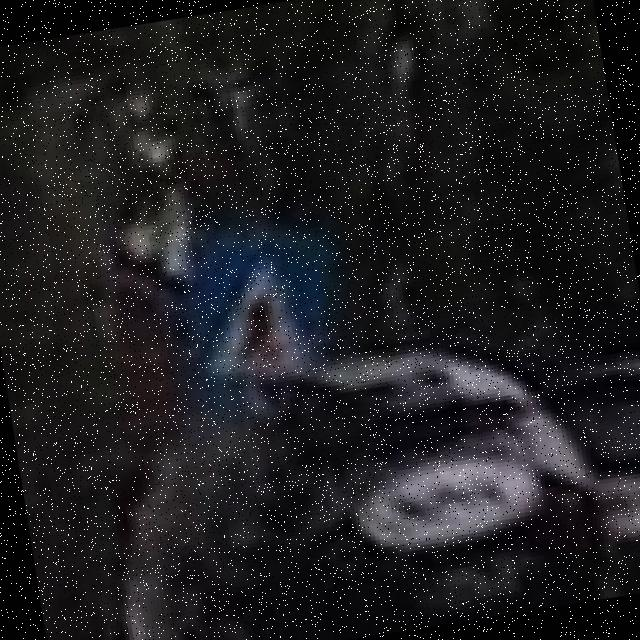Przejscie dla pieszych: (166, 215, 342, 396)
